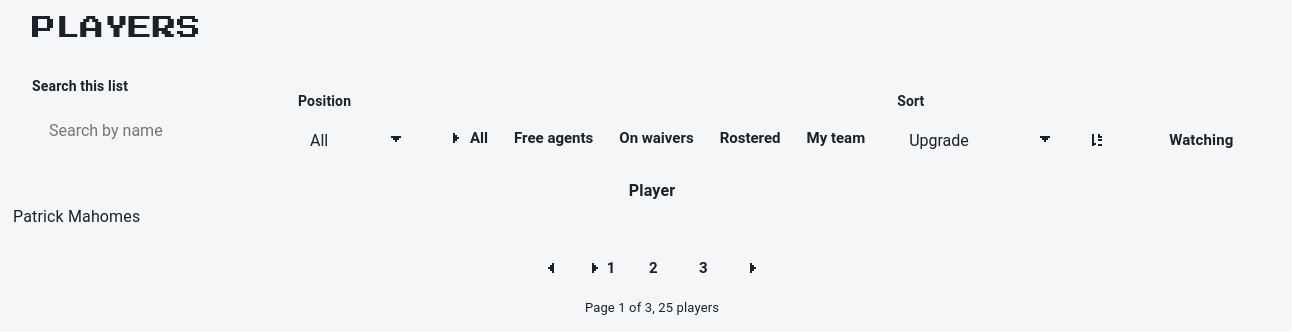
the count names the page once there is more than one
expect the text "Patrick Mahomes" is shown: met, box [12,204,1291,230]
expect the message reads "Page 1 of 3, 25 players": met, box [585,300,719,315]
Click the button named "Go to page 2" at (653, 268), box [631,246,675,290]
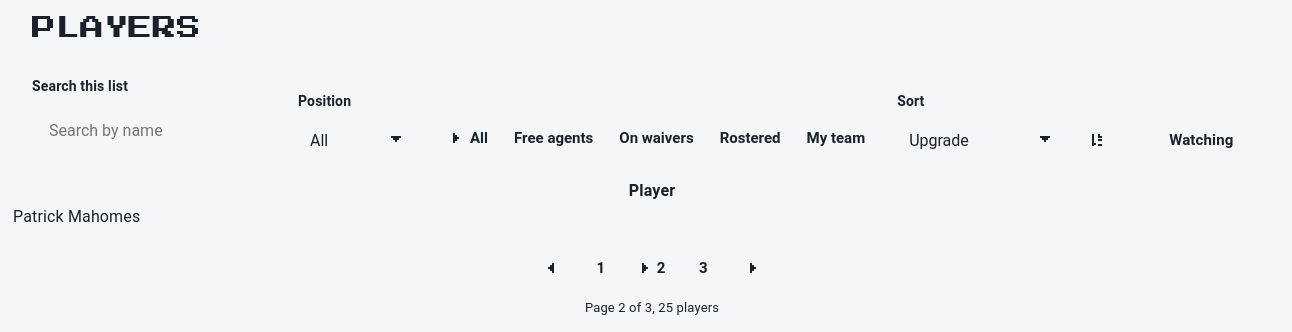
expect the message reads "Page 2 of 3, 25 players": met, box [585,300,719,315]
